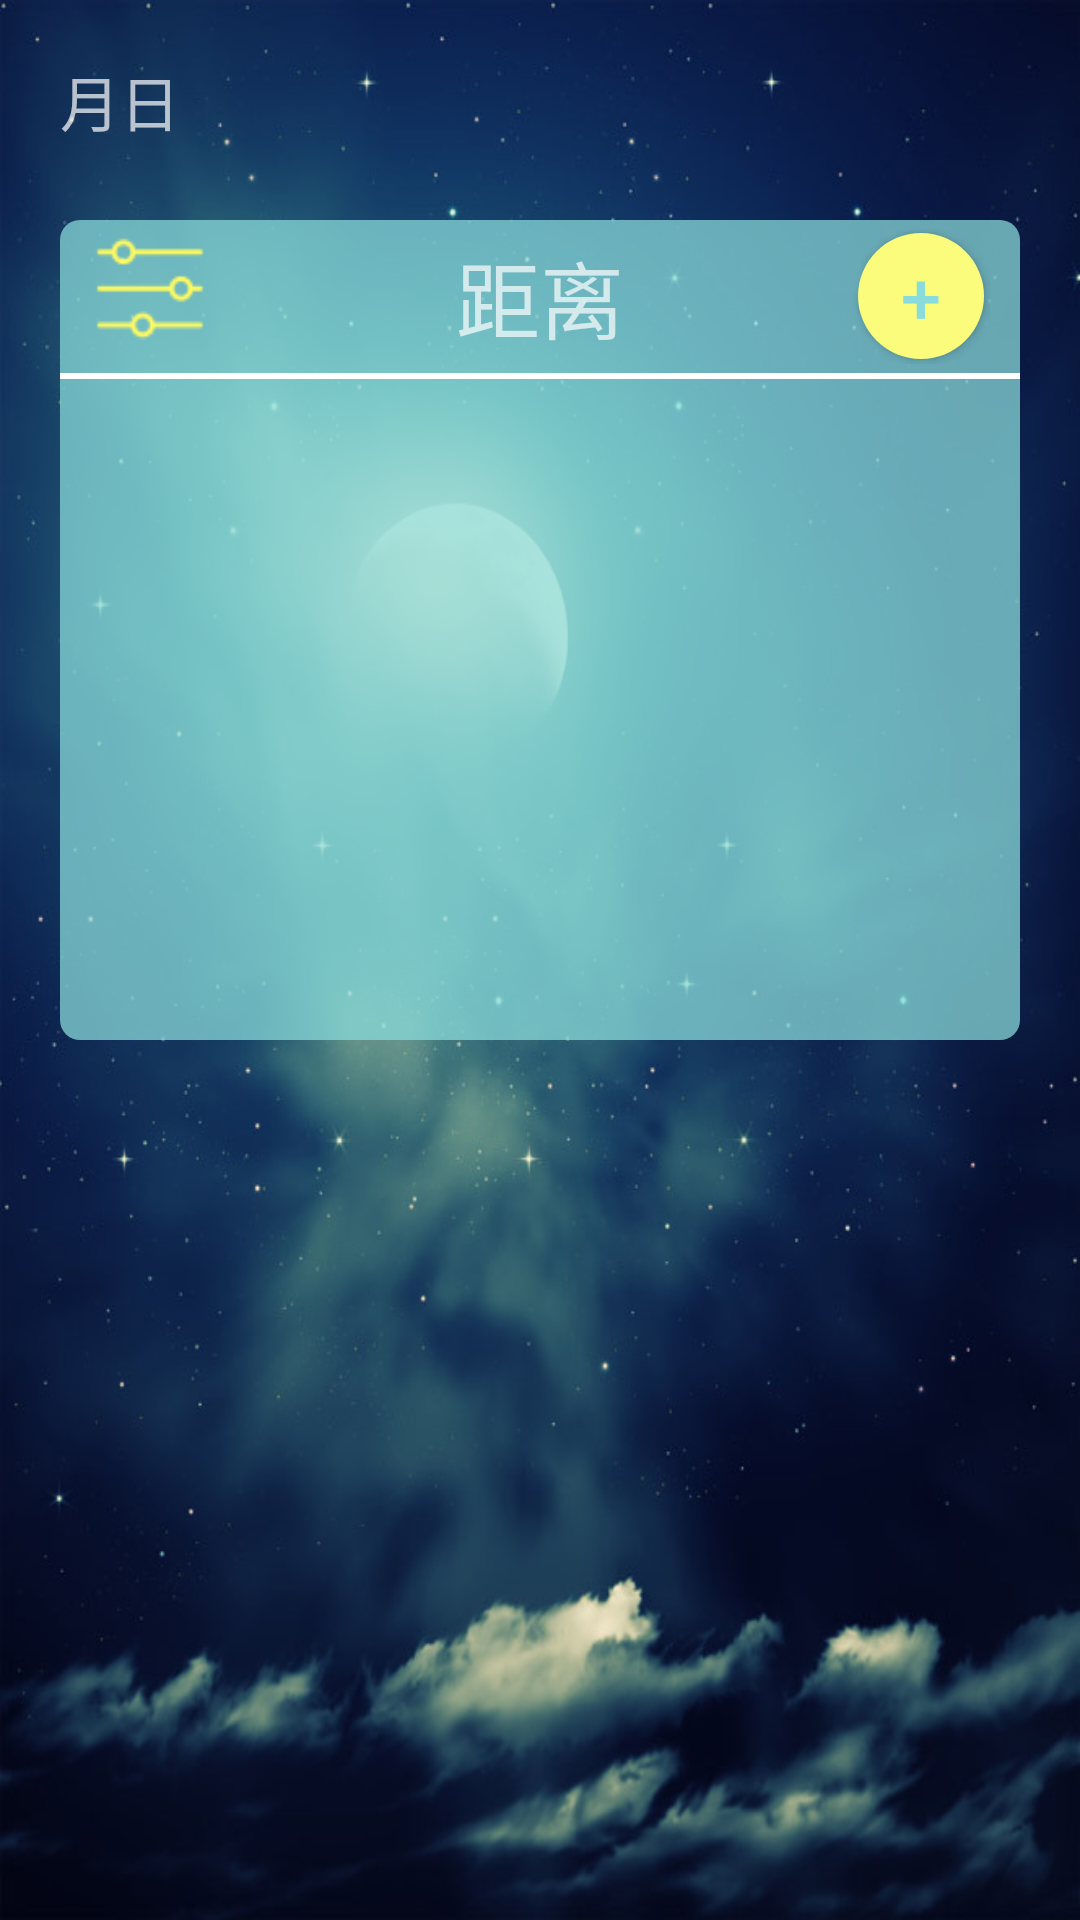

Icons on this 1080x1920 Android screen, each with its box as (x1, y1, x2, y2):
setting: (97, 239, 203, 339)
